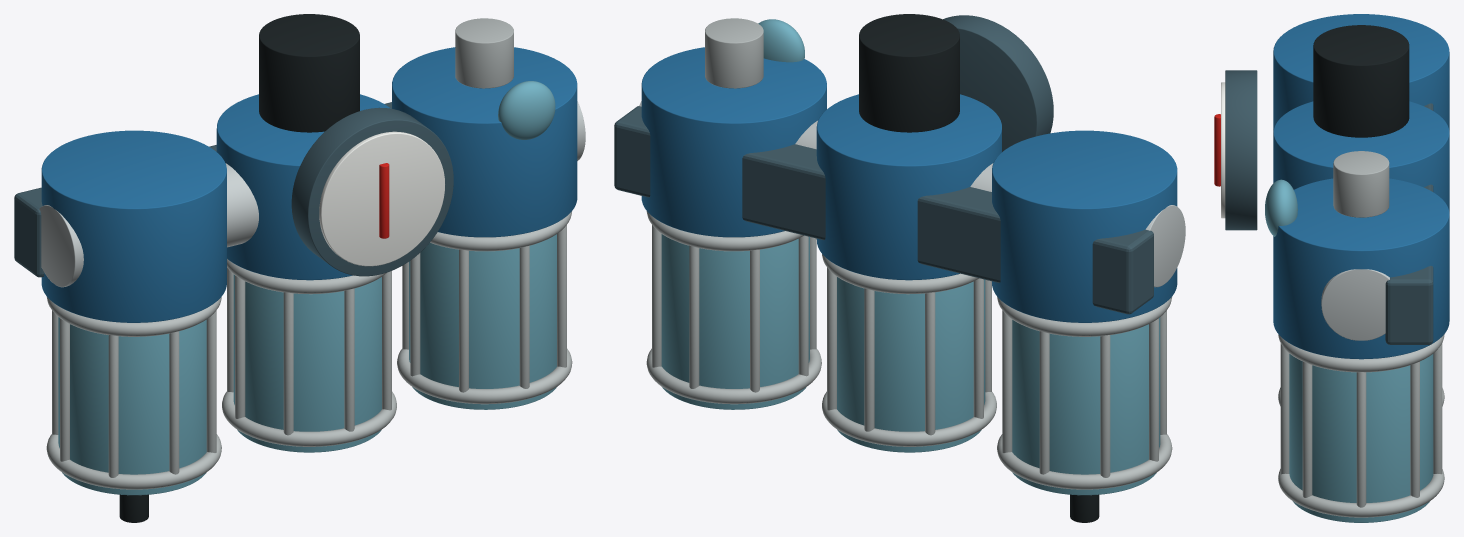
File: filter_regulator_lubricator.glb
3 views of the same model, side by side, from view 1: azimuth 30°, elevation 25°; view 2: azimuth 150°, elevation 25°; view 3: azimuth 270°, elevation 25° (orthographic). The views are drawn at different scales.
Visible parts, largest first — view 1: FILTER_HEAD, LUBRICATOR_HEAD, FILTER_BOWL, REGULATOR_BOWL, LUBRICATOR_BOWL, GAUGE_FACE, REGULATOR_HEAD, KIN_PRESSURE_KNOB, GAUGE_BODY, AIR_MANIFOLD, LUBRICATOR_FILL, FILTER_GUARD_BOTTOM (+23 smaller); view 2: FILTER_HEAD, LUBRICATOR_HEAD, REGULATOR_HEAD, WALL_BRACKET, FILTER_BOWL, LUBRICATOR_BOWL, REGULATOR_BOWL, KIN_PRESSURE_KNOB, GAUGE_BODY, LUBRICATOR_FILL, FILTER_GUARD_BOTTOM, LUBRICATOR_GUARD_BOTTOM (+22 smaller); view 3: LUBRICATOR_HEAD, LUBRICATOR_BOWL, KIN_PRESSURE_KNOB, REGULATOR_HEAD, FILTER_HEAD, GAUGE_BODY, AIR_MANIFOLD, WALL_BRACKET, LUBRICATOR_FILL, LUBRICATOR_GUARD_BOTTOM, LUBRICATOR_GUARD_TOP, LUBRICATOR_GUARD_0 (+7 smaller).
Boxes of the visible parts, x1,y1,x2,y2 form: FILTER_HEAD: [41, 130, 226, 322]; LUBRICATOR_HEAD: [392, 47, 577, 237]; FILTER_BOWL: [58, 317, 206, 495]; REGULATOR_BOWL: [233, 274, 381, 452]; LUBRICATOR_BOWL: [409, 234, 556, 409]; GAUGE_FACE: [319, 131, 444, 266]; REGULATOR_HEAD: [216, 94, 390, 280]; KIN_PRESSURE_KNOB: [259, 14, 359, 132]; GAUGE_BODY: [291, 107, 453, 276]; AIR_MANIFOLD: [39, 101, 585, 287]; LUBRICATOR_FILL: [455, 18, 513, 88]; FILTER_GUARD_BOTTOM: [46, 434, 221, 489]; FILTER_HEAD: [992, 130, 1177, 322]; LUBRICATOR_HEAD: [641, 47, 826, 237]; REGULATOR_HEAD: [816, 94, 1001, 280]; WALL_BRACKET: [614, 106, 1153, 314]; FILTER_BOWL: [1012, 317, 1160, 495]; LUBRICATOR_BOWL: [661, 234, 809, 409]; REGULATOR_BOWL: [837, 277, 985, 452]; KIN_PRESSURE_KNOB: [859, 14, 959, 132]; GAUGE_BODY: [943, 15, 1053, 151]; LUBRICATOR_FILL: [705, 18, 763, 88]; FILTER_GUARD_BOTTOM: [997, 434, 1172, 489]; LUBRICATOR_GUARD_BOTTOM: [646, 348, 821, 404]; LUBRICATOR_HEAD: [1273, 178, 1449, 359]; LUBRICATOR_BOWL: [1289, 354, 1433, 522]; KIN_PRESSURE_KNOB: [1313, 25, 1409, 137]; REGULATOR_HEAD: [1273, 101, 1449, 213]; FILTER_HEAD: [1273, 14, 1449, 132]; GAUGE_BODY: [1225, 70, 1257, 230]; AIR_MANIFOLD: [1321, 269, 1389, 340]; WALL_BRACKET: [1385, 103, 1433, 344]; LUBRICATOR_FILL: [1333, 151, 1389, 217]; LUBRICATOR_GUARD_BOTTOM: [1278, 469, 1444, 517]; LUBRICATOR_GUARD_TOP: [1278, 334, 1444, 372]; LUBRICATOR_GUARD_0: [1356, 372, 1366, 507].
Bounding box in the file's own units: 1.42 × 1.15 × 0.587.
